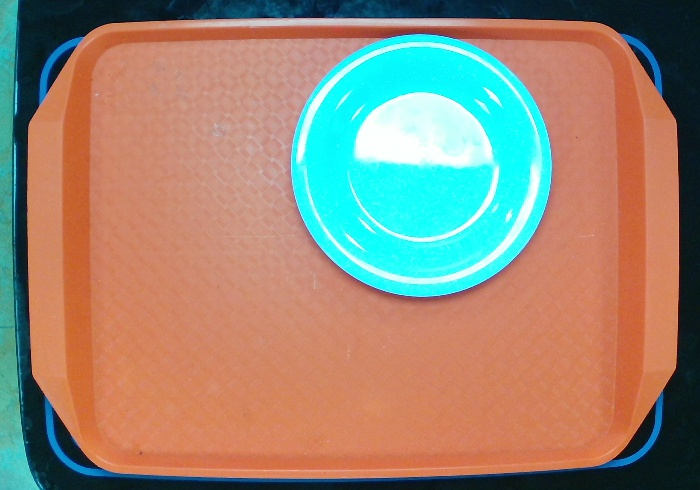RJxy-Yuan_Pan: (285, 31, 555, 300)
